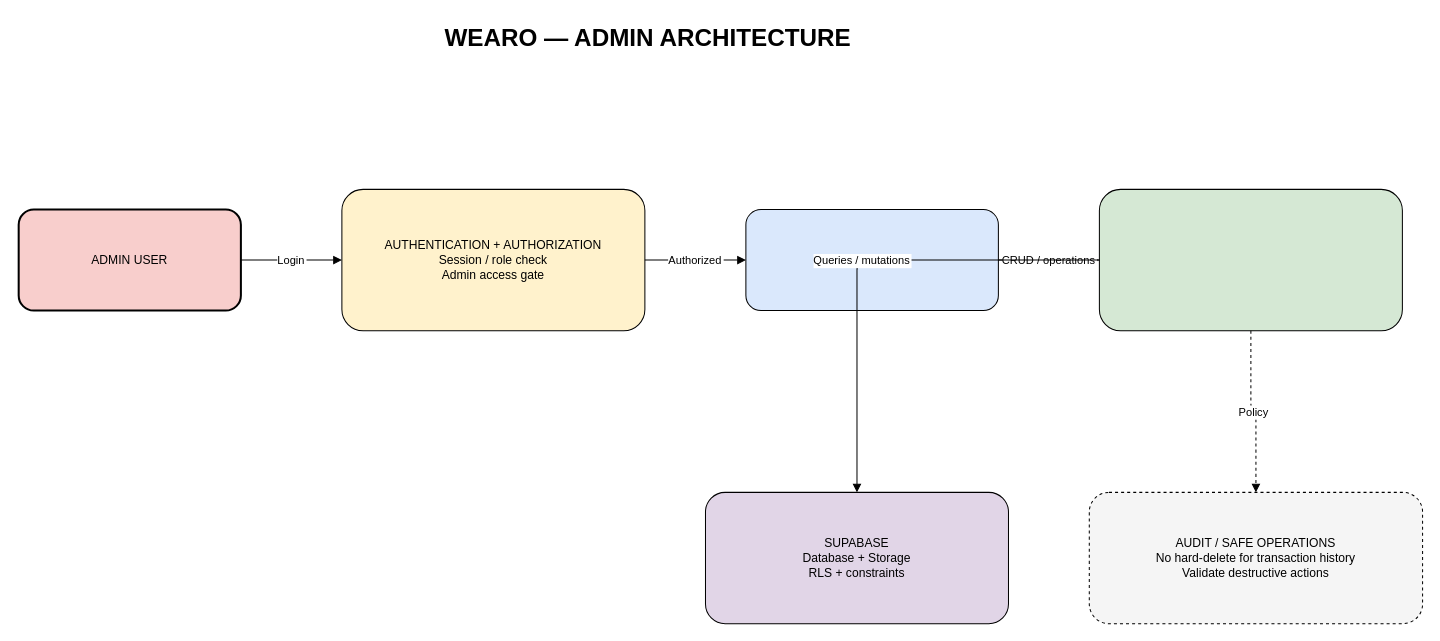
Some shapes in this 1440 by 641 pixel diagram are drawn without their labels. Here are the shapes that lost their labels. From the top down, the centre of each, then its label:
At pixel 871 260: "ADMIN DASHBOARD".
At pixel 1250 259: "DOMAIN MODULES Products / Orders / Payments Users / AI operations".
